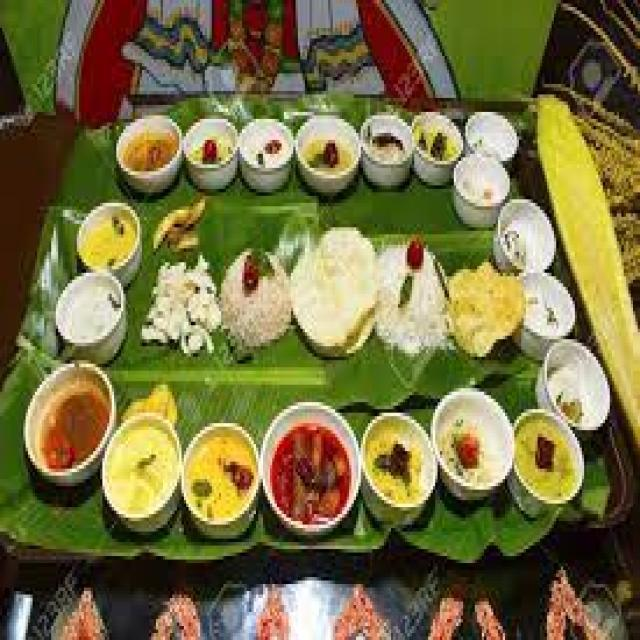curd: (50, 272, 132, 358)
dal: (293, 234, 380, 348), (76, 210, 140, 269)
papad: (444, 260, 527, 355)
raita: (46, 271, 133, 360)
rice: (372, 230, 451, 345)
sambar-rasam: (24, 372, 117, 470)
veg: (260, 410, 360, 531)
veg-fry: (263, 414, 363, 528)
